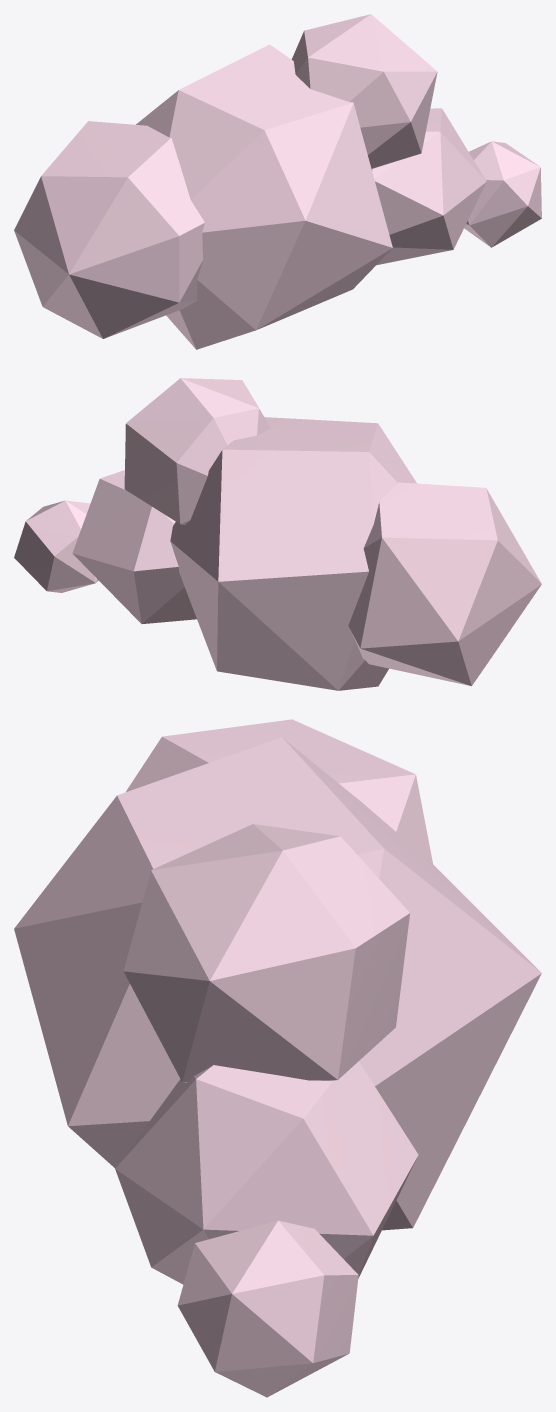
Rendered from cloud_10.fbx.
The picture shows the model from 3 angles, top to bottom: view 1: azimuth 30°, elevation 25°; view 2: azimuth 150°, elevation 25°; view 3: azimuth 270°, elevation 25°; orthographic projection. The views are drawn at different scales.
Visible parts, largest first — view 1: cloud_10; view 2: cloud_10; view 3: cloud_10.
Boxes of the visible parts, x1,y1,x2,y2 form: cloud_10: (14,14,541,349); cloud_10: (14,378,541,690); cloud_10: (14,719,541,1397).
Size of the model in its own units: 554 by 298 by 294.
